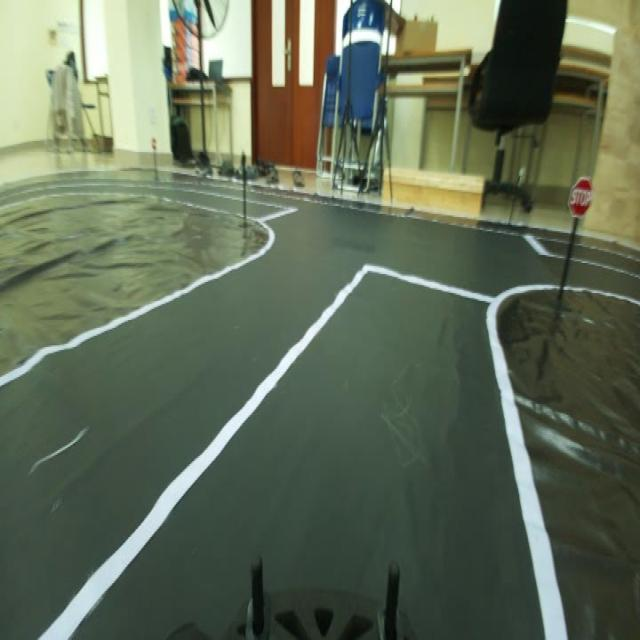stop: (565, 168, 599, 226)
